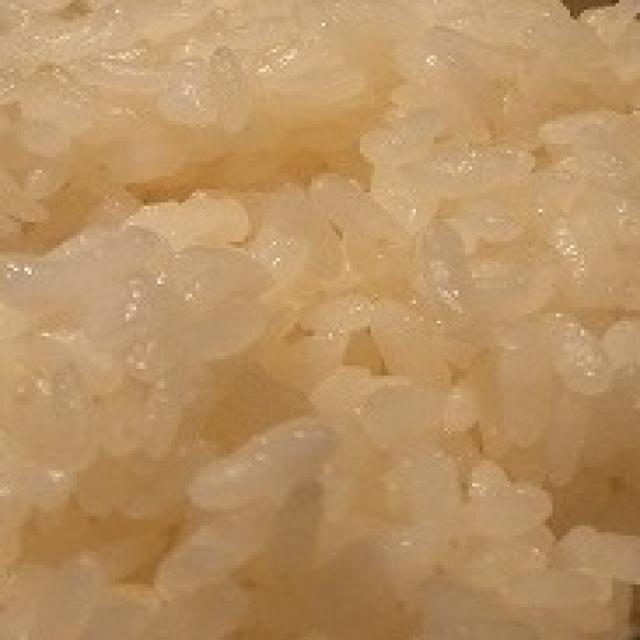米饭主食: (0, 0, 637, 637)
